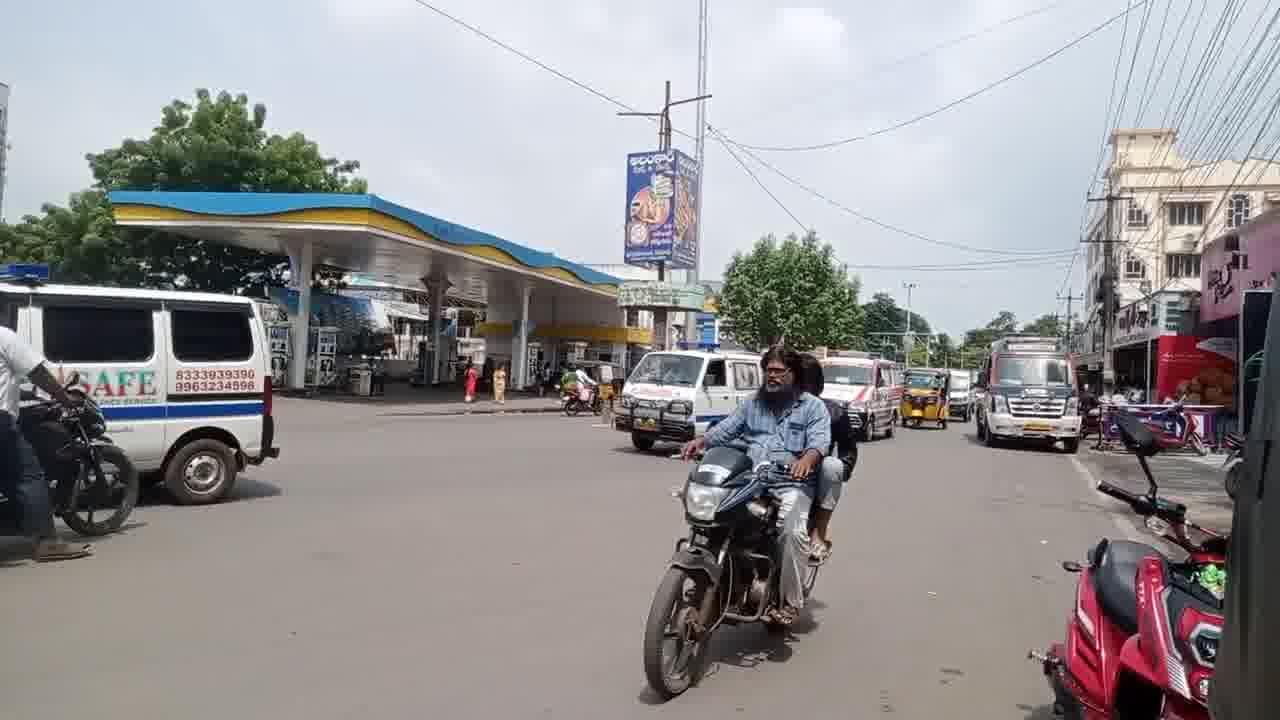AMBULANCE: (32, 288, 291, 418), (978, 336, 1095, 451), (608, 346, 732, 436), (840, 336, 868, 458), (927, 374, 961, 416)
